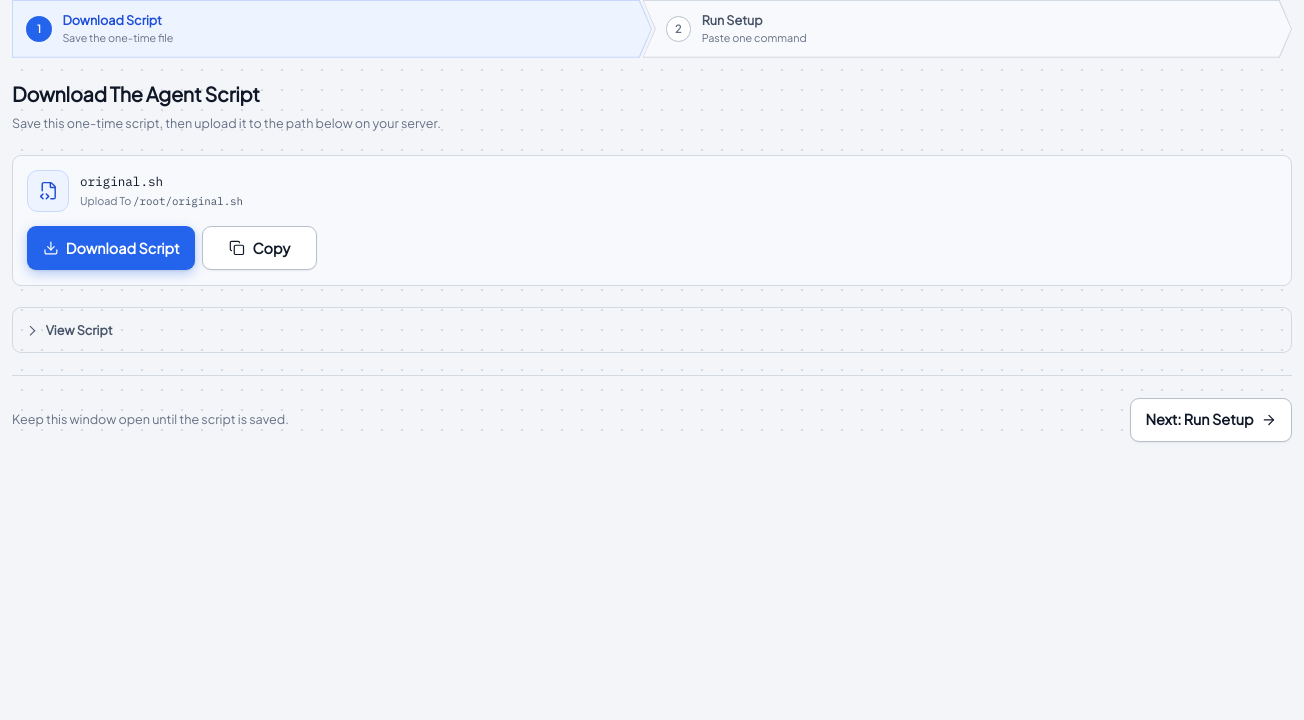
Scenario: retains the edited path and unchanged script when returning to download
Click the button "Next: Run Setup" at (1211, 420), box x1=1130 y1=398 x2=1292 y2=442
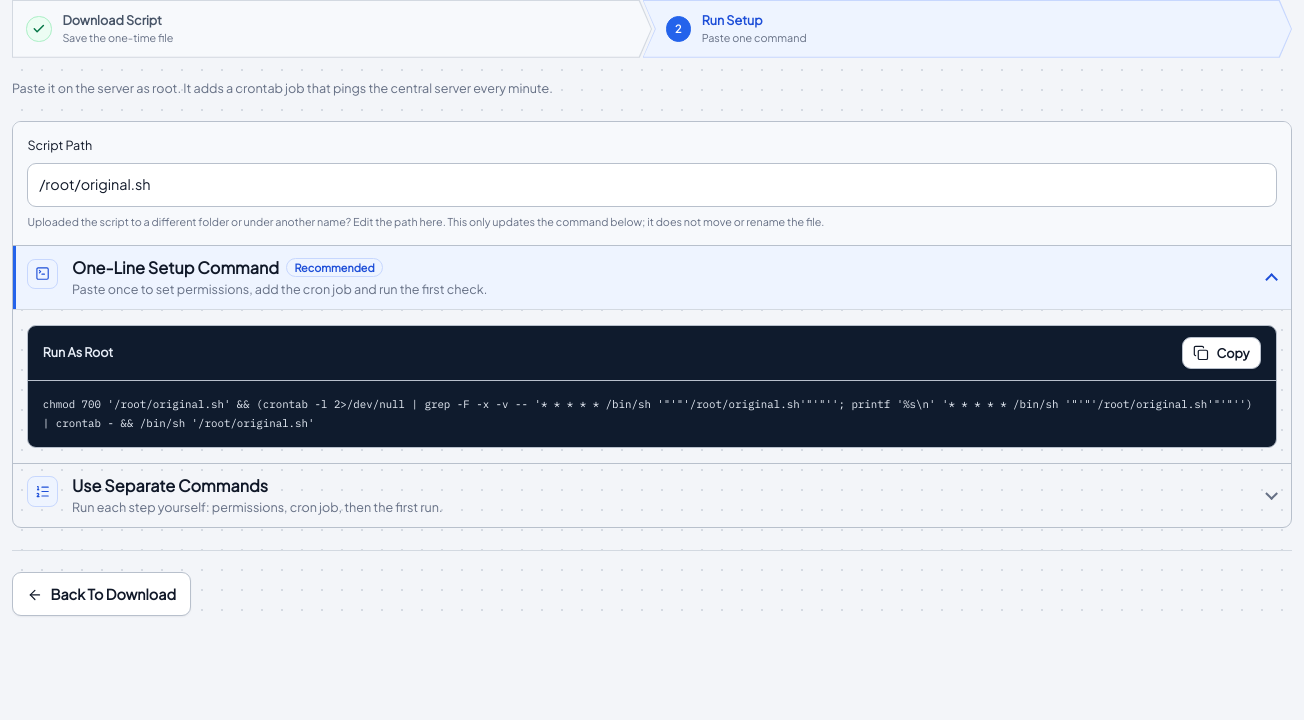
Replace the text in the field labelled "Script Path" with "/root/renamed.sh" at (652, 185), box x1=27 y1=163 x2=1277 y2=207
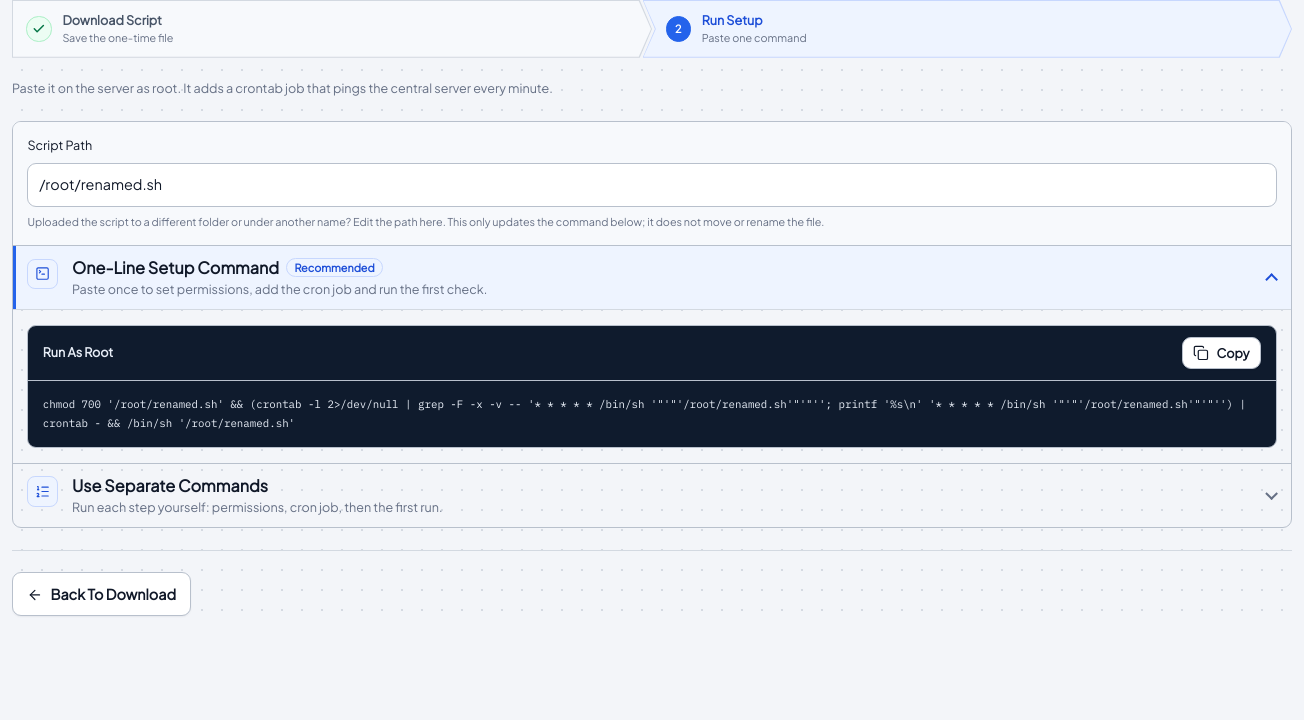
Click the button "Back To Download" at (102, 594), box x1=12 y1=572 x2=191 y2=616
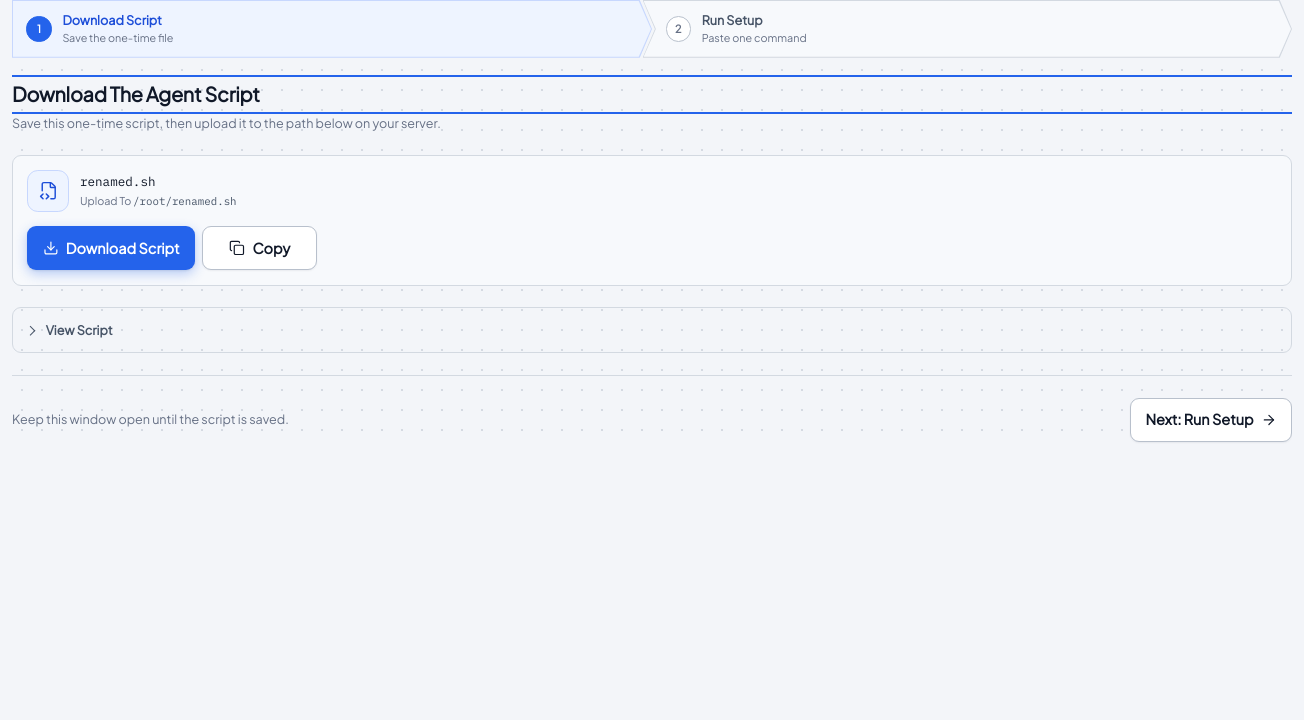
Expected: the text "/root/renamed.sh" is shown, x1=133 y1=194 x2=237 y2=208
Expected: the text "renamed.sh" is shown, x1=80 y1=173 x2=156 y2=189
Click the heading "View Script" at (79, 330), box x1=46 y1=322 x2=113 y2=338
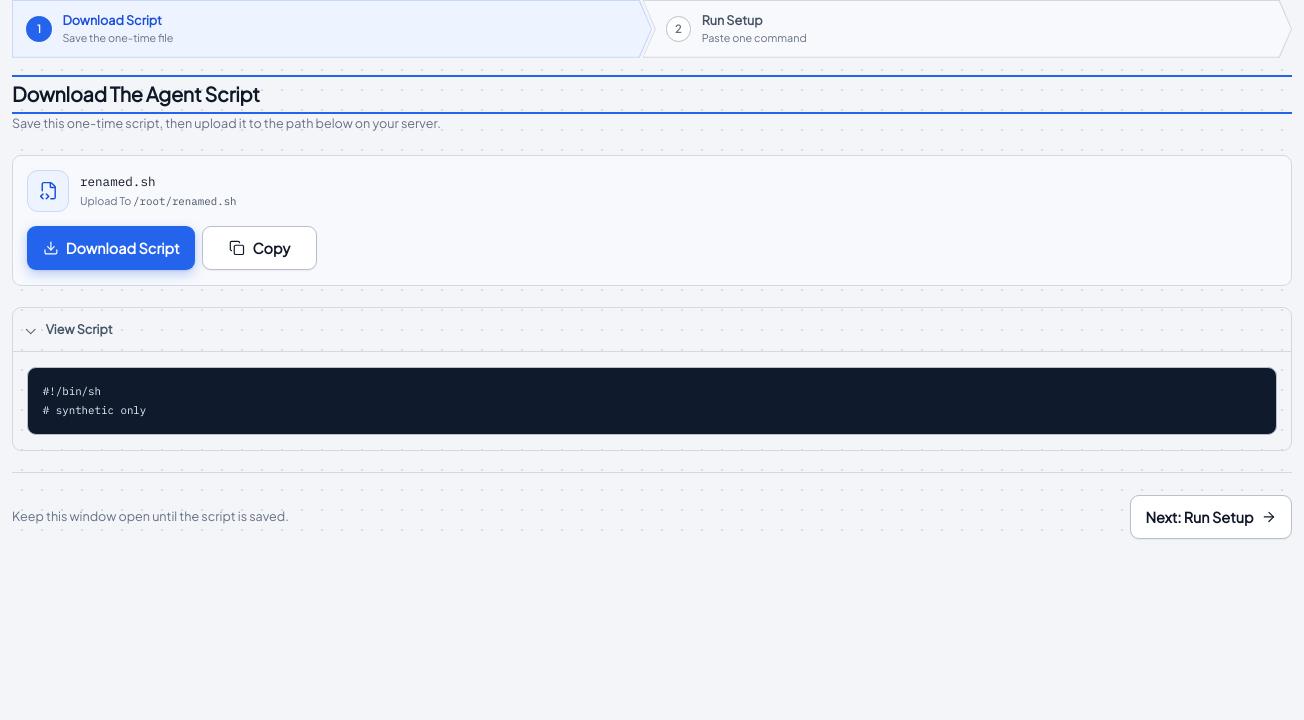
Expected: the button "Download Script" is shown, x1=27 y1=226 x2=195 y2=270
Expected: the element named "Replacement Agent Script" shows "synthetic only", x1=43 y1=384 x2=146 y2=417
Click the button "Next: Run Setup" at (1211, 517), box x1=1130 y1=495 x2=1292 y2=539
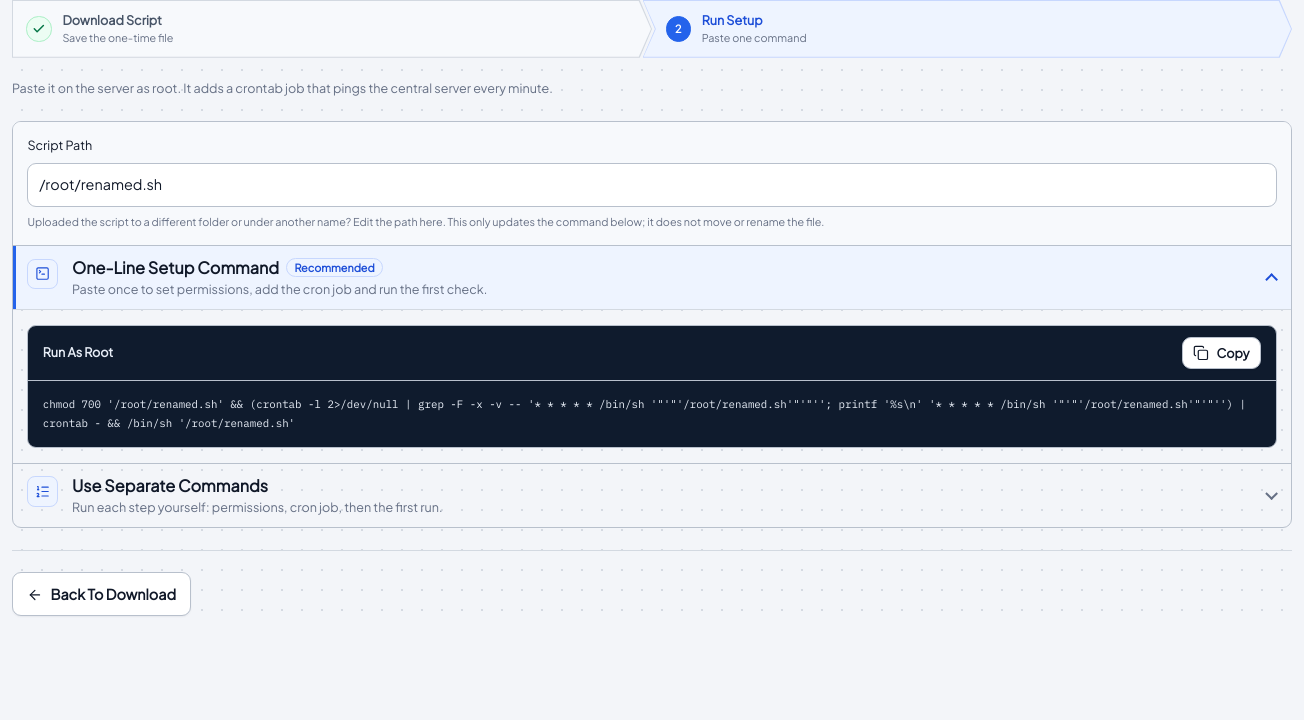
Expected: the field labelled "Script Path" holds "/root/renamed.sh", x1=27 y1=163 x2=1277 y2=207
